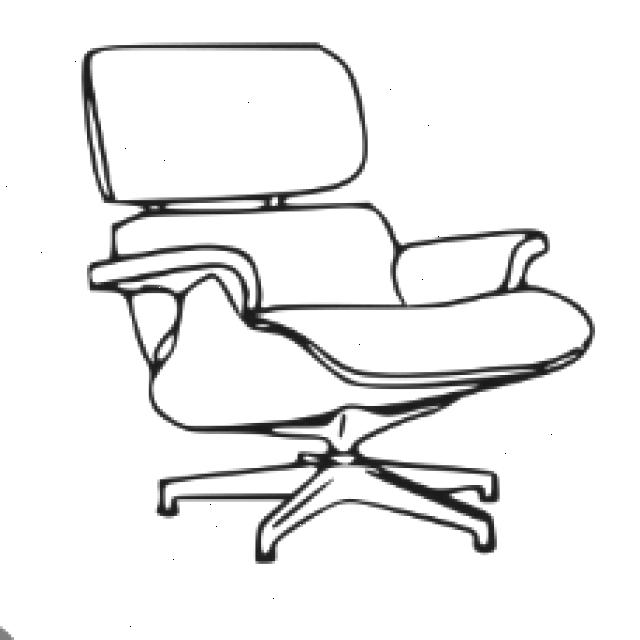Backrest: (101, 203, 405, 364)
Eames_base: (151, 447, 508, 571)
Eames_lounge: (394, 228, 552, 307), (87, 245, 264, 304)
Headrest: (78, 42, 366, 203)
Seat: (150, 275, 594, 431)
